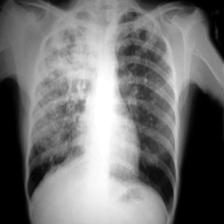tuberculosis: (21, 0, 182, 224)
